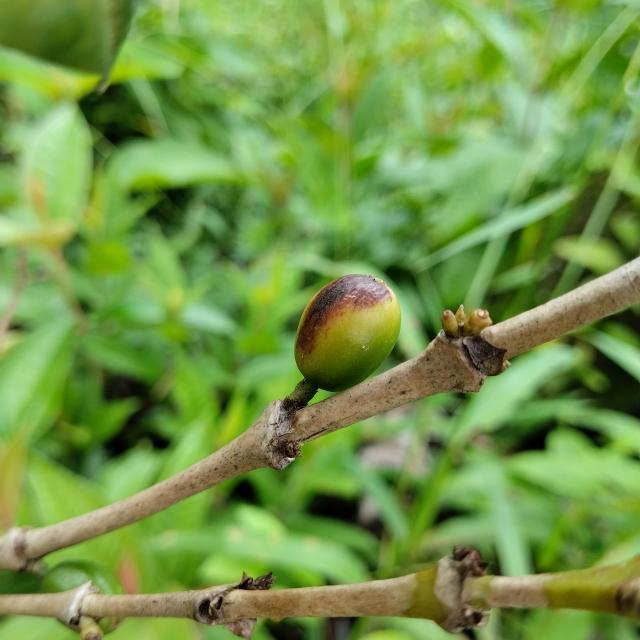red: (295, 274, 401, 392)
